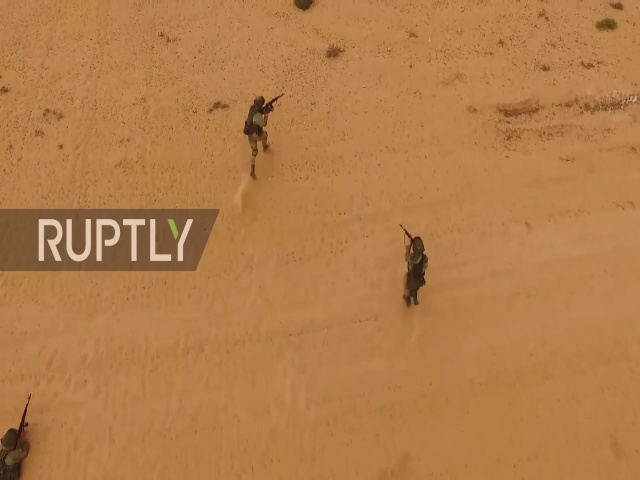person: (241, 92, 277, 182), (398, 221, 430, 312)
